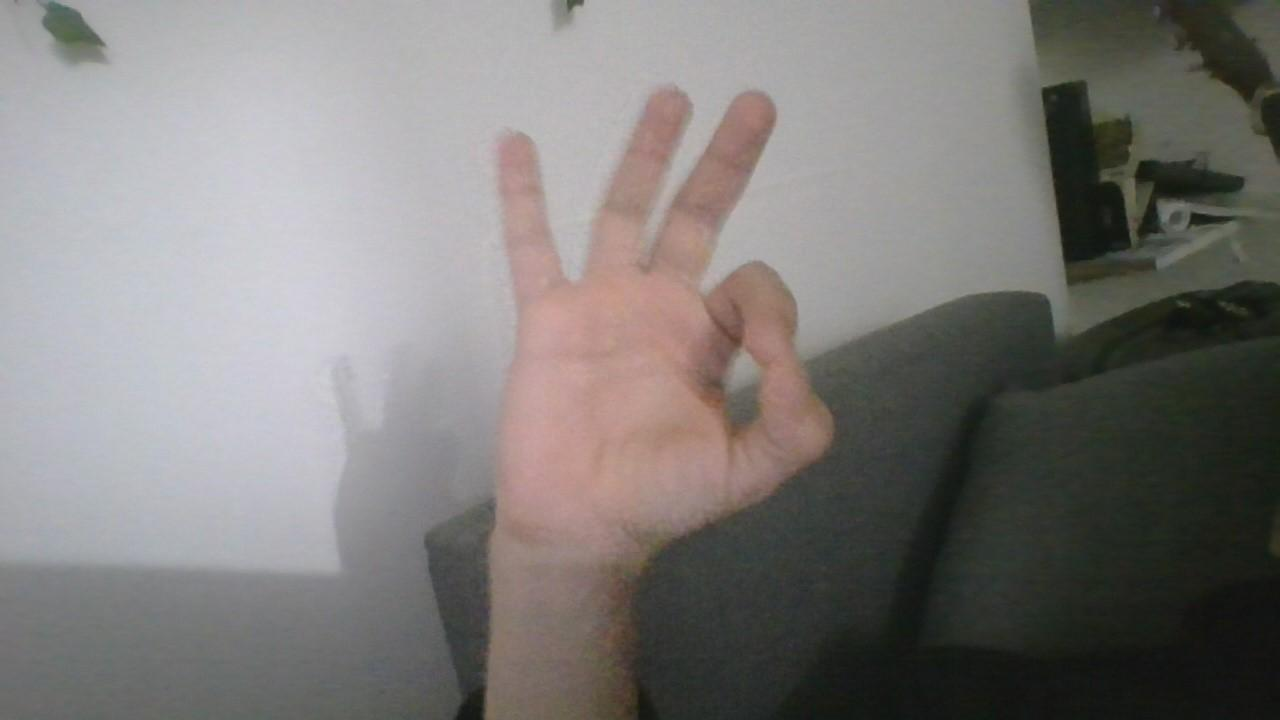zero: (460, 86, 850, 567)
